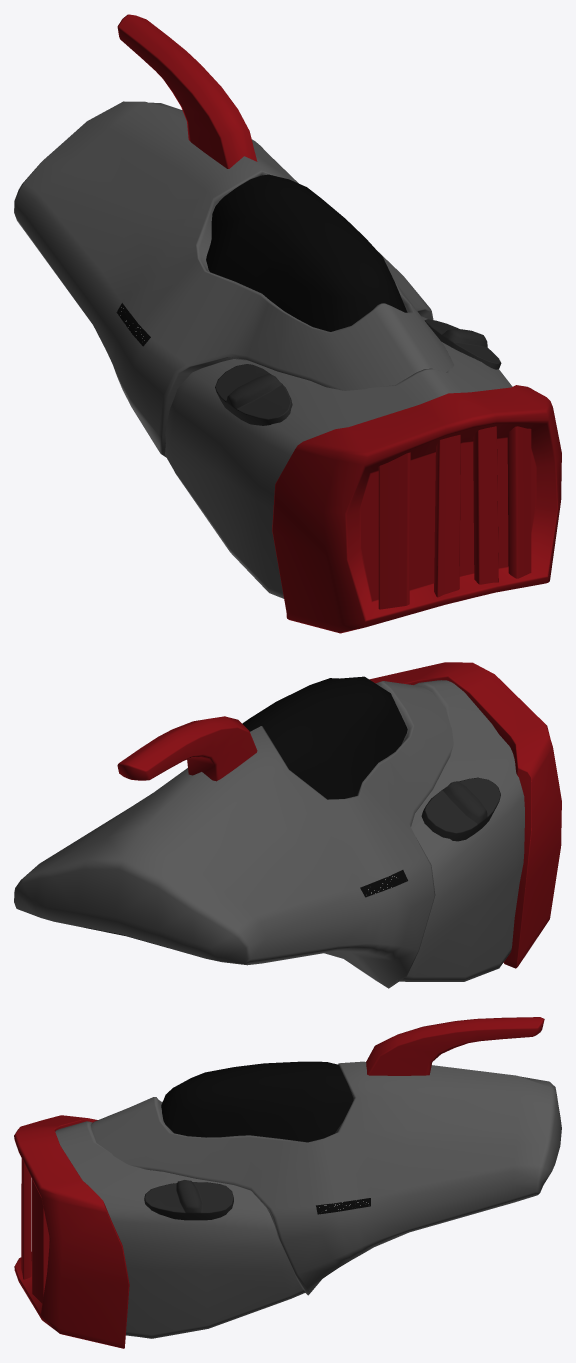
Rendered from Spaceship_main_03_Hull.fbx.
The picture shows the model from 3 angles, top to bottom: view 1: azimuth 30°, elevation 25°; view 2: azimuth 150°, elevation 25°; view 3: azimuth 270°, elevation 25°; orthographic projection. The views are drawn at different scales.
Visible parts, largest first — view 1: Spaceship_main_03_Hull; view 2: Spaceship_main_03_Hull; view 3: Spaceship_main_03_Hull.
Part boxes in pixels (bbox=[...]): Spaceship_main_03_Hull: bbox=[14, 14, 561, 633]; Spaceship_main_03_Hull: bbox=[14, 662, 561, 988]; Spaceship_main_03_Hull: bbox=[14, 1017, 561, 1348].
Size of the model in its own units: 239 by 310 by 533.
